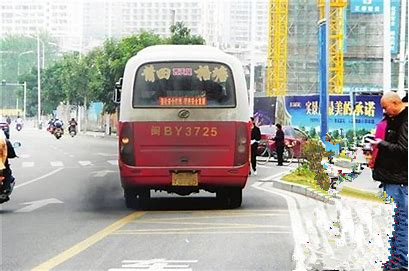smoke: (73, 168, 127, 213)
